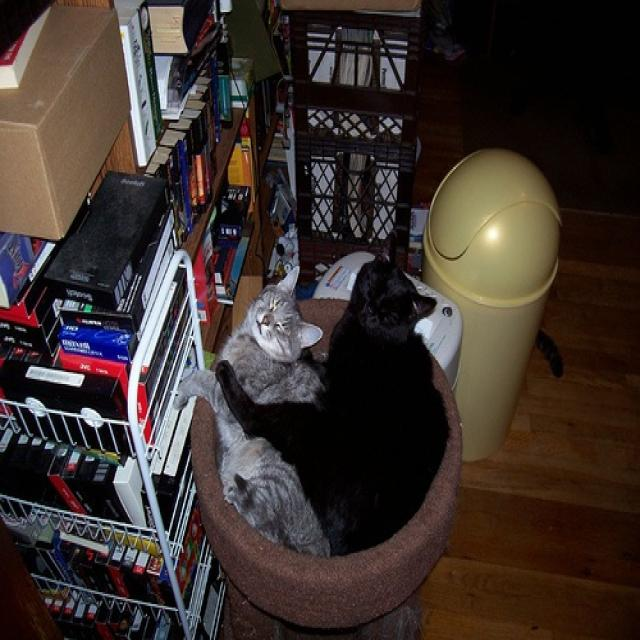cat: (220, 256, 453, 567), (174, 276, 339, 560)
